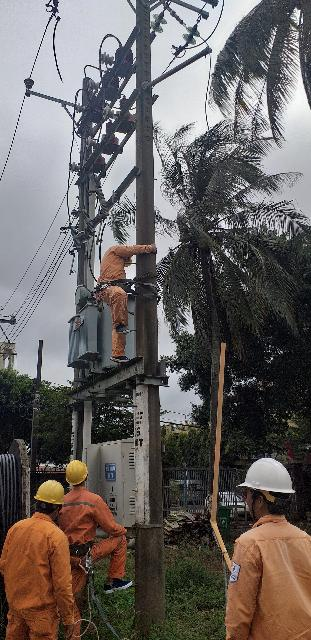harness: (93, 276, 144, 295), (60, 541, 99, 560)
helmet: (224, 454, 309, 507), (30, 474, 73, 509), (54, 455, 92, 487), (108, 348, 136, 370), (110, 322, 133, 338), (118, 248, 136, 268)
shoes: (99, 572, 133, 597)
